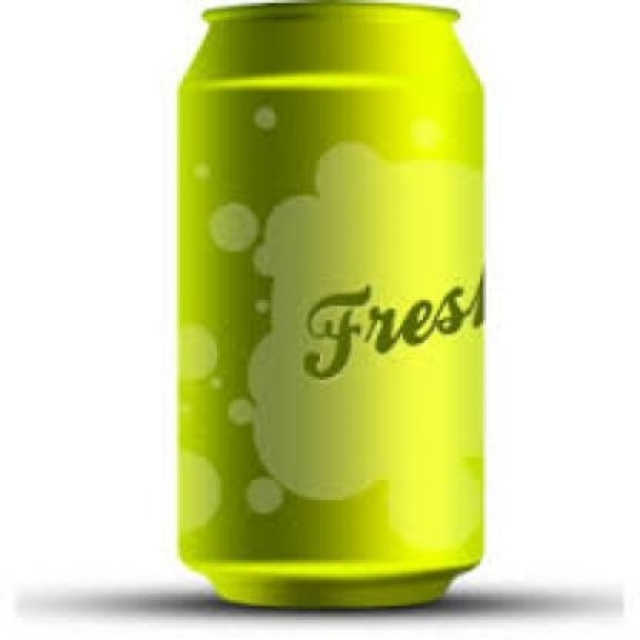trash: (178, 0, 482, 606)
